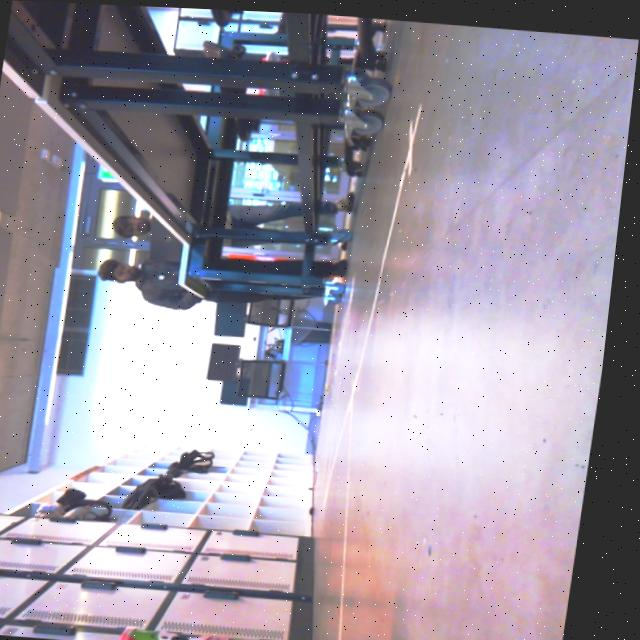greenpringles: (111, 611, 437, 640)
